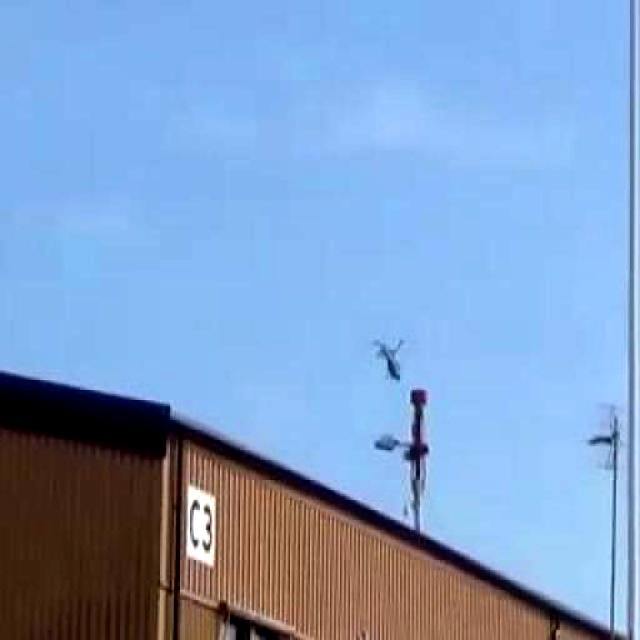drone: (366, 322, 410, 399)
